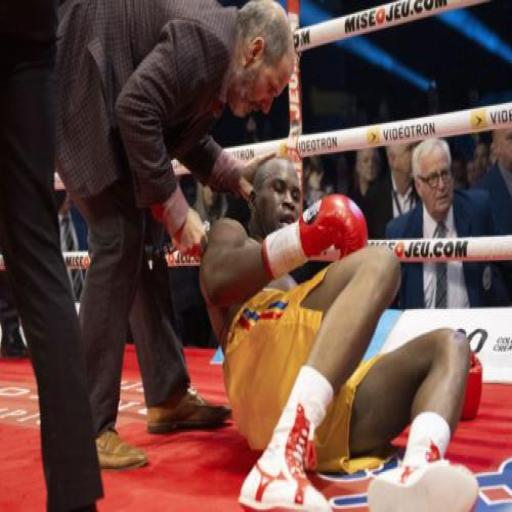boxing: (198, 149, 482, 511)
